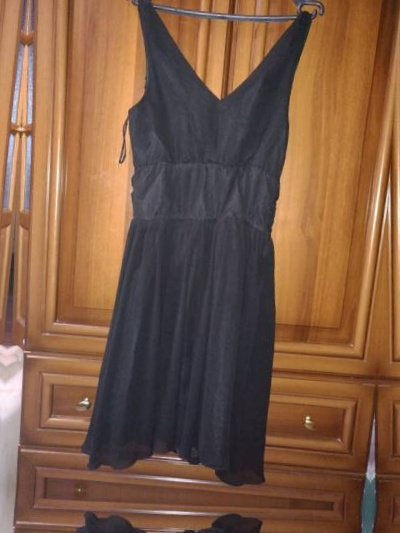Dress: (48, 0, 357, 498), (15, 497, 323, 533), (381, 520, 400, 533)
